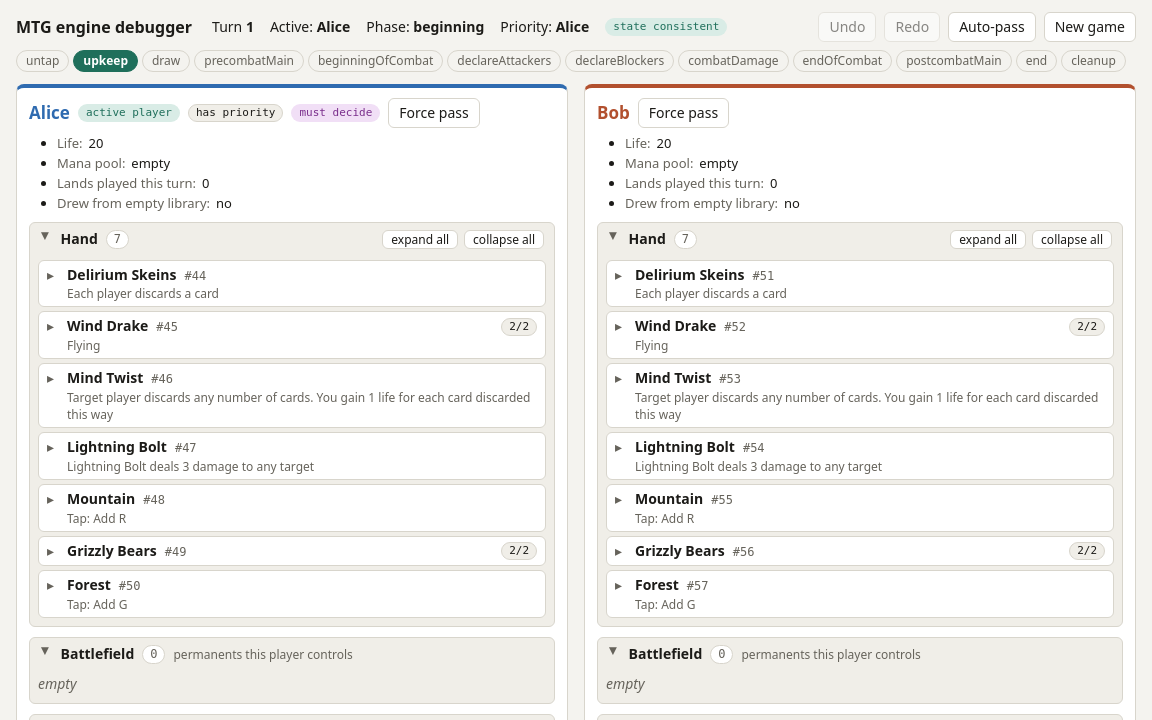
Test case: decision panel › force pass continues across priority passes and stops at the next turn
This screenshot has width=1152, height=720.
Step 1. Click the 2nd button "Force pass" → click(683, 113), box [638, 98, 729, 128]
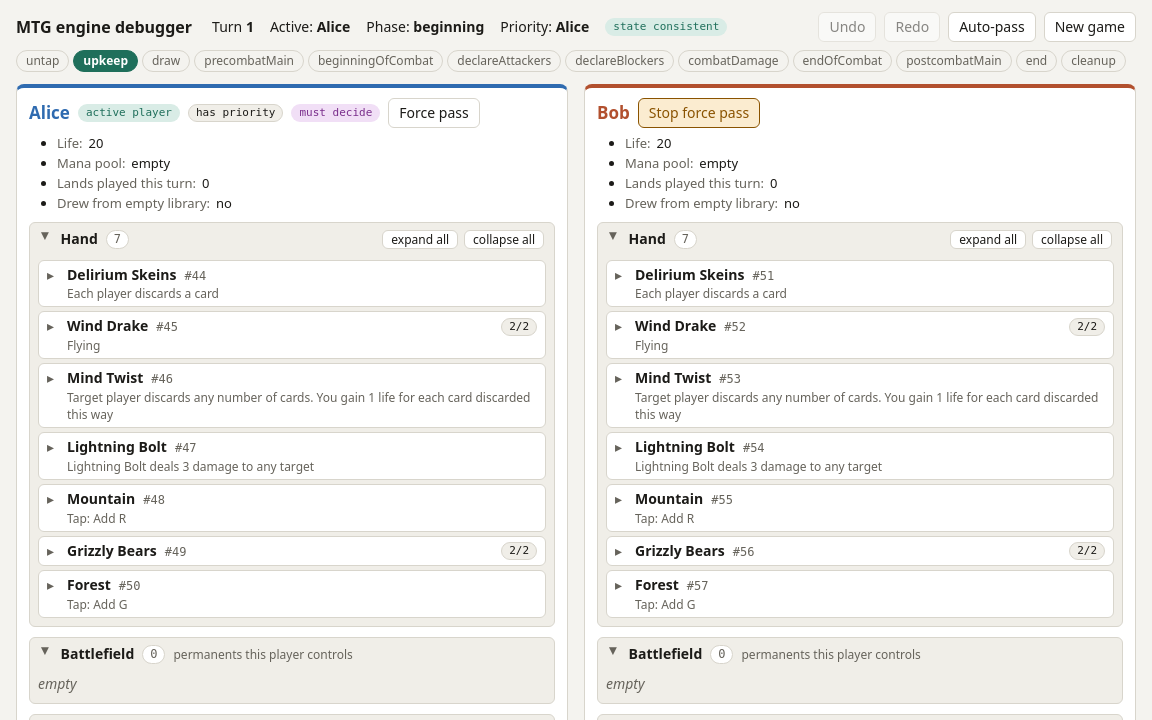
Step 2. Click the button "Force pass" → click(434, 113), box [388, 98, 480, 128]
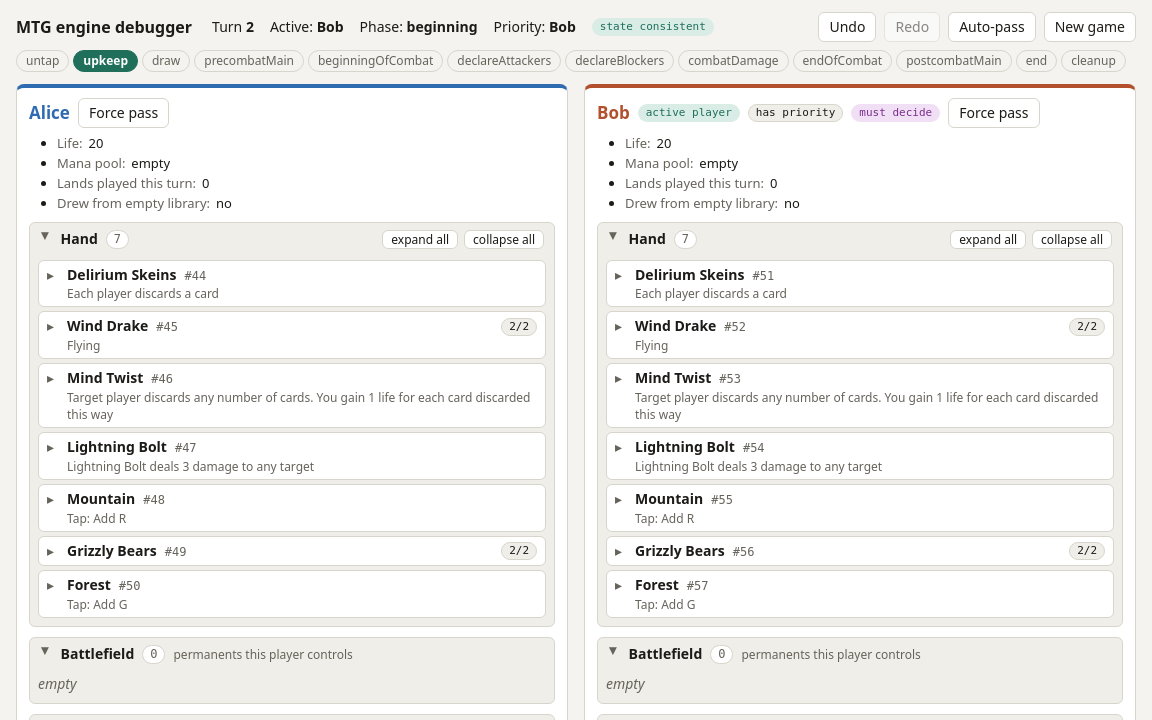
Now the text "2" is shown, box [246, 17, 254, 36]
